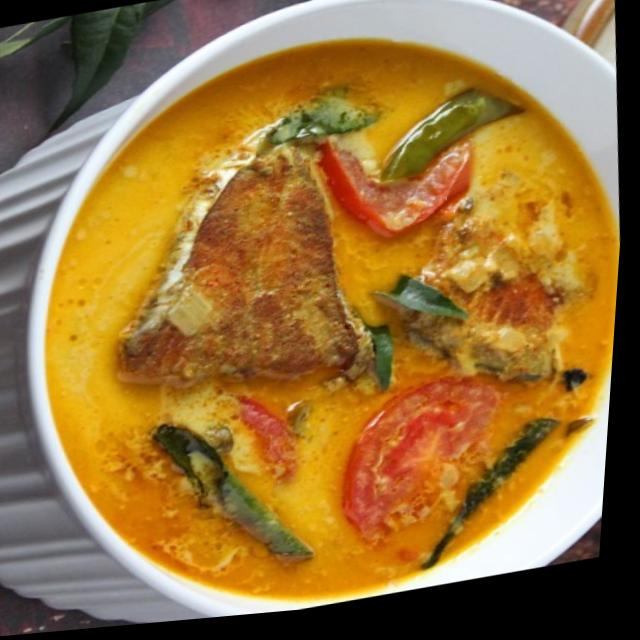FISH CURRY: (32, 7, 617, 632)
